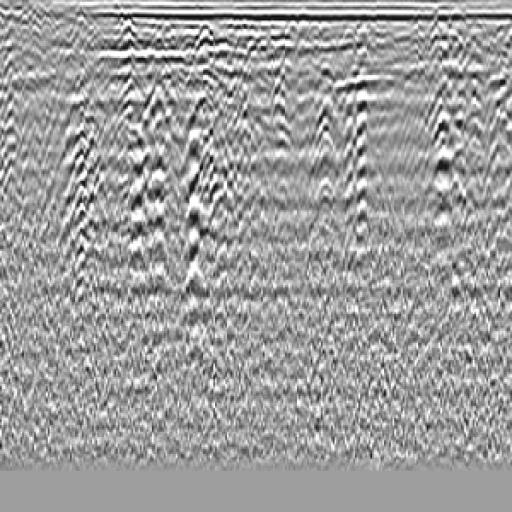non-metallic: (161, 18, 275, 295), (299, 42, 401, 251), (409, 28, 499, 264), (40, 69, 131, 288)
